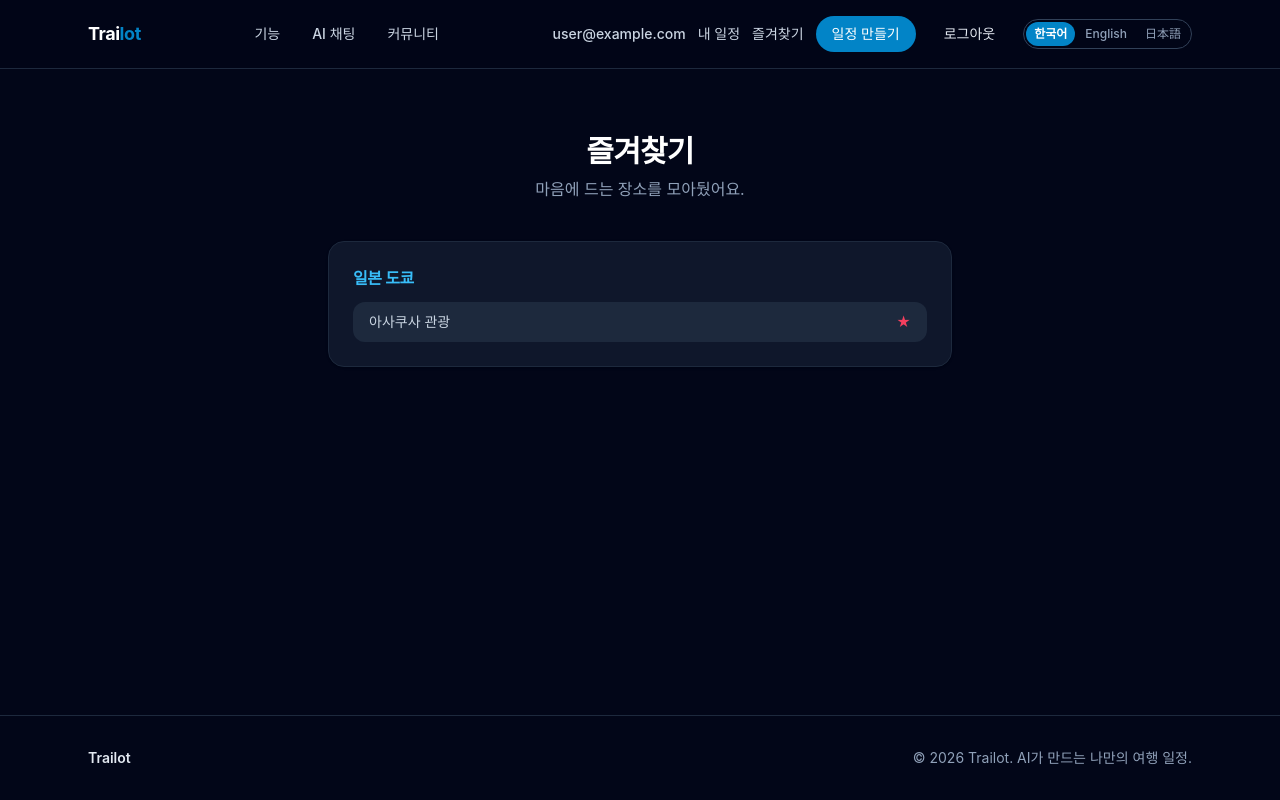
FavoritesPage › removes a favorite when its remove button is clicked
Step 1. Click the button named "아사쿠사 관광 즐겨찾기 해제" → (904, 322), box [896,312,911,332]
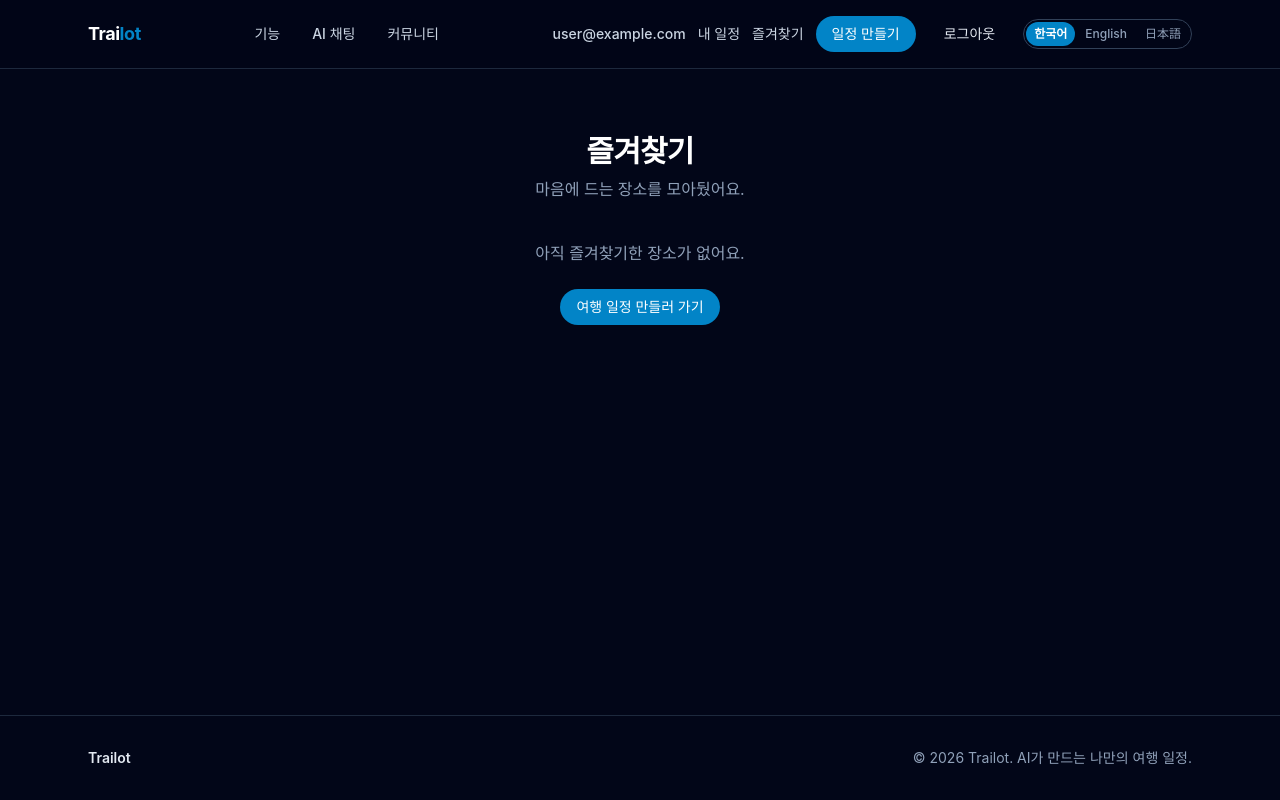
Now the text "아사쿠사 관광" is gone
Now the text "아직 즐겨찾기한 장소가 없어요." is shown, box [535,243,745,263]
